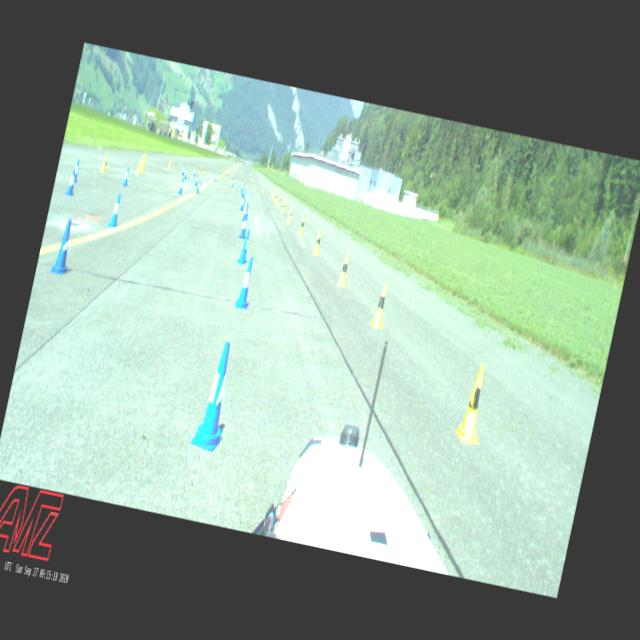blue_cone: (190, 337, 242, 454), (49, 216, 79, 276), (233, 255, 258, 310), (106, 192, 124, 228), (236, 228, 252, 264), (65, 168, 78, 195), (238, 212, 250, 239), (72, 158, 80, 183), (122, 166, 130, 187), (241, 201, 249, 222), (194, 178, 202, 194), (239, 194, 246, 211), (178, 177, 185, 194), (193, 173, 200, 186), (242, 190, 248, 204), (240, 184, 246, 198), (183, 168, 188, 180), (231, 176, 236, 188), (213, 171, 218, 182), (192, 166, 197, 177), (240, 182, 244, 195), (181, 166, 185, 177), (240, 181, 243, 192)
yellow_cone: (453, 362, 494, 444), (368, 280, 392, 330), (336, 252, 352, 288), (312, 230, 324, 256), (100, 153, 109, 173), (298, 214, 306, 236), (286, 204, 294, 223), (135, 160, 142, 176), (280, 198, 286, 214), (140, 158, 146, 172), (272, 190, 278, 203), (276, 194, 282, 207), (270, 188, 276, 200), (140, 154, 145, 167), (142, 153, 147, 164), (198, 166, 202, 176), (168, 158, 172, 168), (260, 183, 264, 193), (230, 174, 233, 184)
